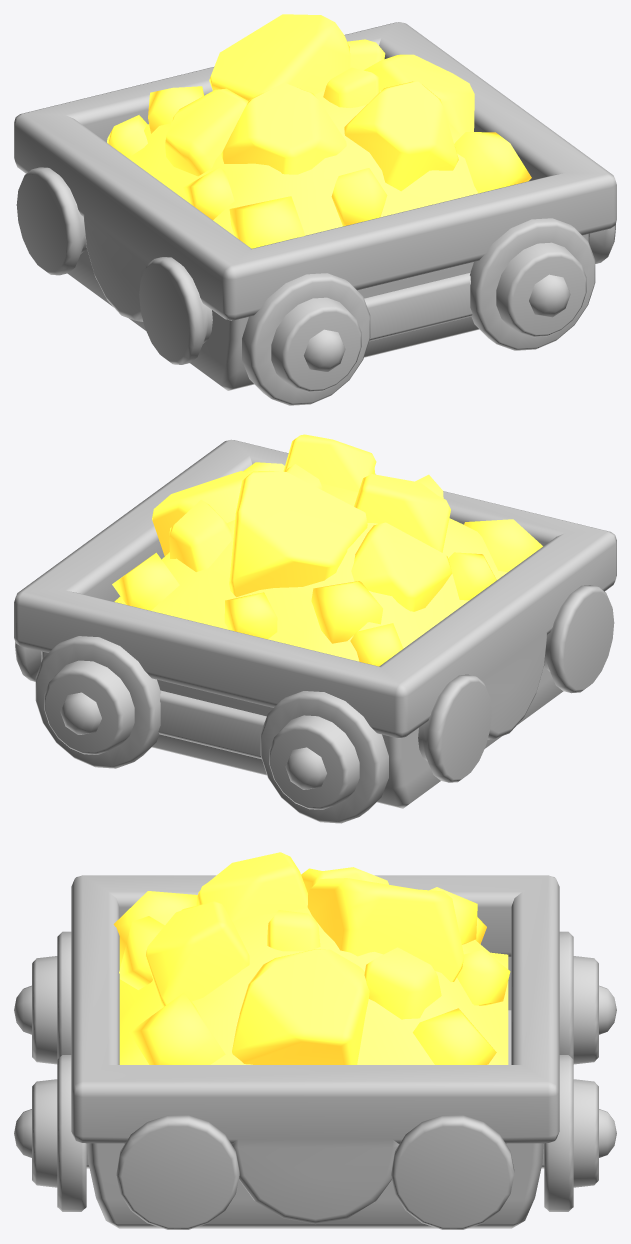
File: MinecartParent_01.fbx
The picture shows the model from 3 angles, top to bottom: view 1: azimuth 30°, elevation 25°; view 2: azimuth 150°, elevation 25°; view 3: azimuth 270°, elevation 25°; orthographic projection. The views are drawn at different scales.
Parts seen in each view (by area): view 1: mi_cart_01, m_mine_goldcart_01 (1); view 2: mi_cart_01, m_mine_goldcart_01 (1); view 3: mi_cart_01, m_mine_goldcart_01 (1).
Boxes of the visible parts, x1,y1,x2,y2 form: mi_cart_01: [14, 22, 616, 405]; m_mine_goldcart_01 (1): [107, 14, 531, 248]; mi_cart_01: [14, 439, 616, 823]; m_mine_goldcart_01 (1): [112, 434, 542, 666]; mi_cart_01: [14, 875, 616, 1229]; m_mine_goldcart_01 (1): [113, 852, 510, 1064].
Size of the model in its own units: 1.66 by 0.9233 by 1.8.
